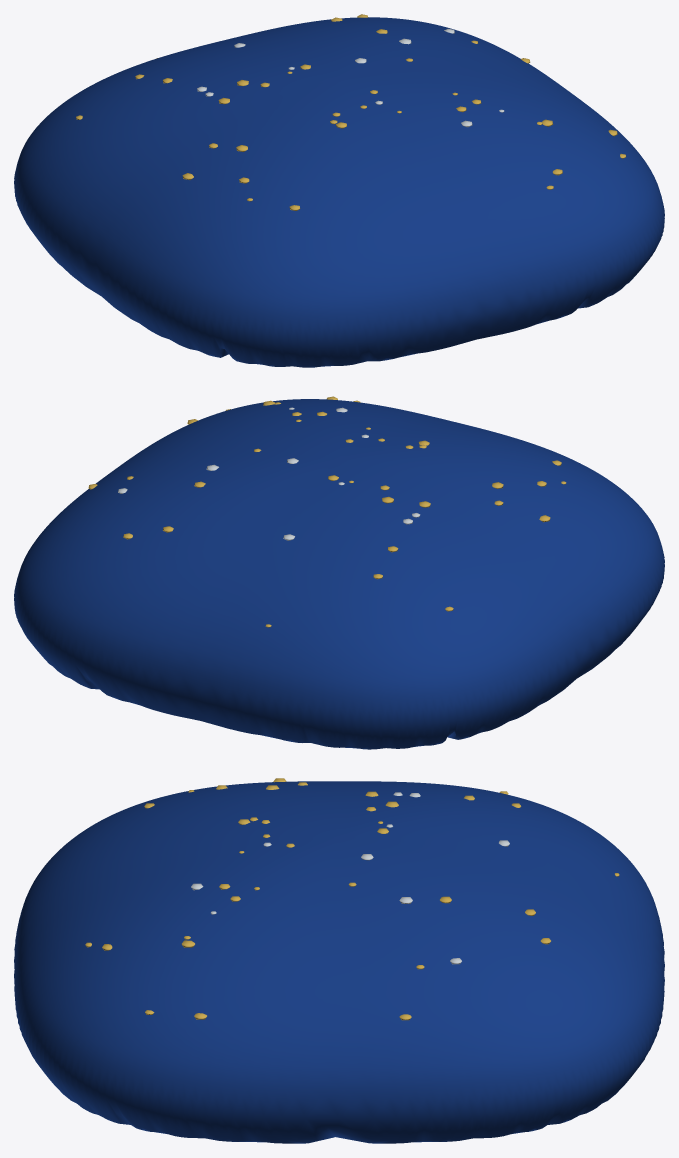
The model's file is jewelry.glb.
3 views of the same model, one above another, from view 1: azimuth 30°, elevation 25°; view 2: azimuth 150°, elevation 25°; view 3: azimuth 270°, elevation 25° (orthographic). The views are drawn at different scales.
Parts seen in each view (by area): view 1: Gemstone Lapis Lazuli; view 2: Gemstone Lapis Lazuli; view 3: Gemstone Lapis Lazuli.
Boxes of the visible parts, <box> form: Gemstone Lapis Lazuli: <box>14,17,664,367</box>; Gemstone Lapis Lazuli: <box>14,399,664,749</box>; Gemstone Lapis Lazuli: <box>14,781,664,1143</box>.
Size of the model in its own units: 1.98 by 0.6028 by 1.98.
